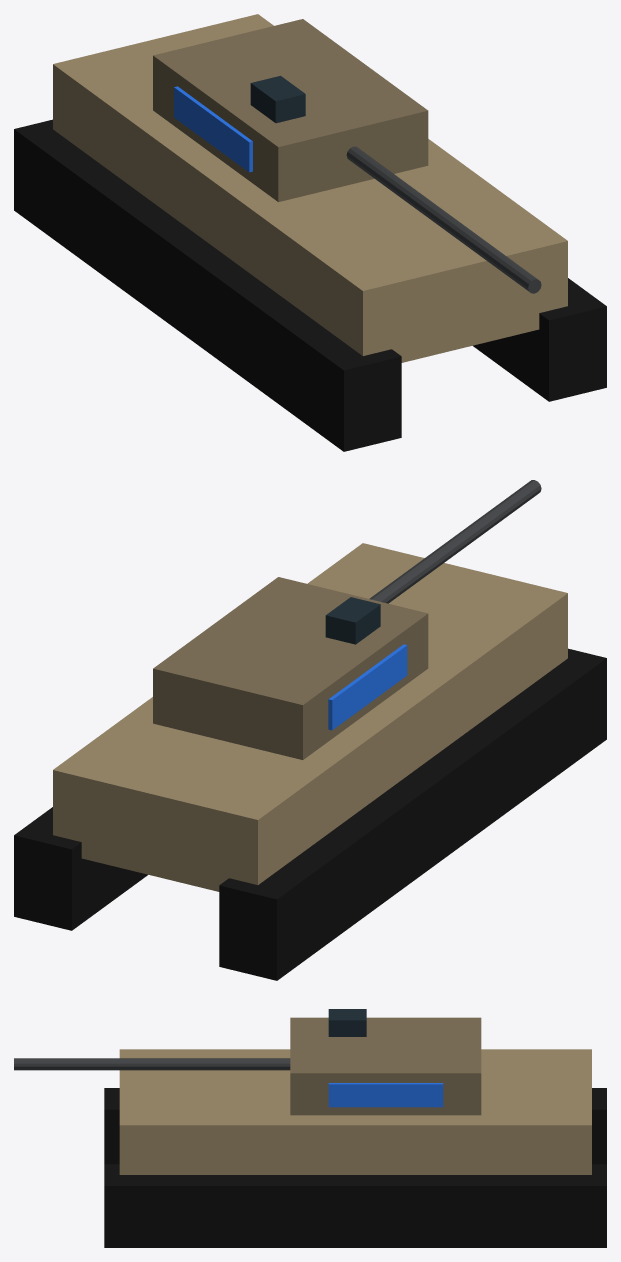
File: ae_mbt.glb
The picture shows the model from 3 angles, top to bottom: view 1: azimuth 30°, elevation 25°; view 2: azimuth 150°, elevation 25°; view 3: azimuth 270°, elevation 25°; orthographic projection. The views are drawn at different scales.
Visible parts, largest first — view 1: hull, track_l, turret, track_r, barrel, team_panel_l, sight; view 2: hull, track_l, turret, track_r, barrel, team_panel_l, sight; view 3: hull, track_r, turret, barrel, team_panel_r, track_l, sight.
Boxes of the visible parts, bbox=[...] form: hull: bbox=[53, 14, 567, 362]; track_l: bbox=[14, 119, 401, 451]; turret: bbox=[153, 19, 428, 201]; track_r: bbox=[473, 278, 606, 401]; barrel: bbox=[346, 146, 541, 293]; team_panel_l: bbox=[174, 86, 252, 172]; sight: bbox=[250, 75, 305, 123]; hull: bbox=[53, 543, 567, 891]; track_l: bbox=[219, 648, 606, 980]; turret: bbox=[153, 577, 428, 759]; track_r: bbox=[14, 807, 147, 930]; barrel: bbox=[369, 480, 541, 603]; team_panel_l: bbox=[328, 644, 407, 730]; sight: bbox=[325, 597, 380, 644]; hull: bbox=[119, 1049, 591, 1174]; track_r: bbox=[104, 1164, 606, 1247]; turret: bbox=[290, 1017, 481, 1115]; barrel: bbox=[14, 1058, 290, 1070]; team_panel_r: bbox=[328, 1083, 443, 1107]; track_l: bbox=[104, 1088, 606, 1164]; sight: bbox=[328, 1009, 366, 1036].
Bounding box in the file's own units: 3.5 × 2.84 × 8.97.
